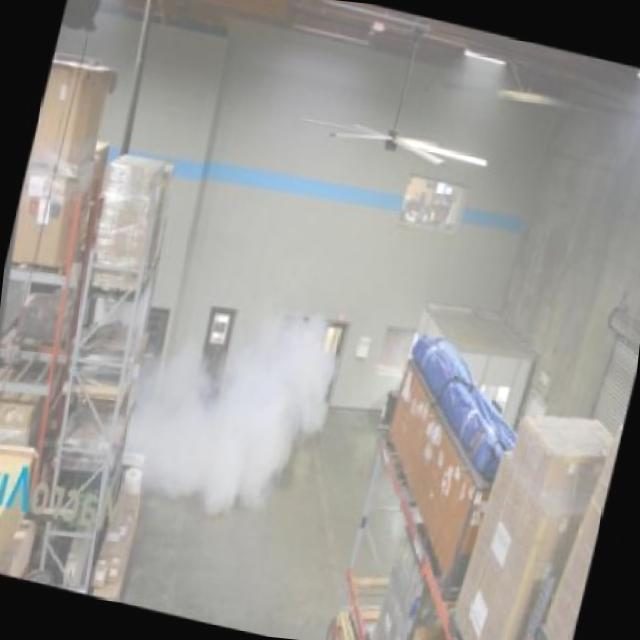smoke: (139, 288, 346, 517)
